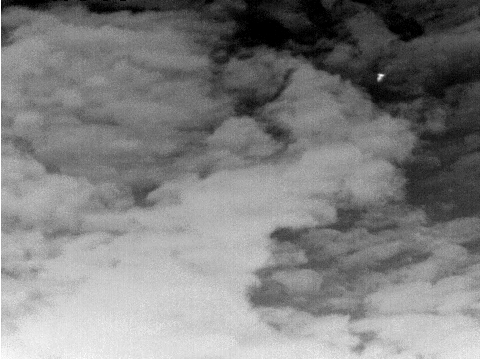dim target: (377, 72, 385, 83)
